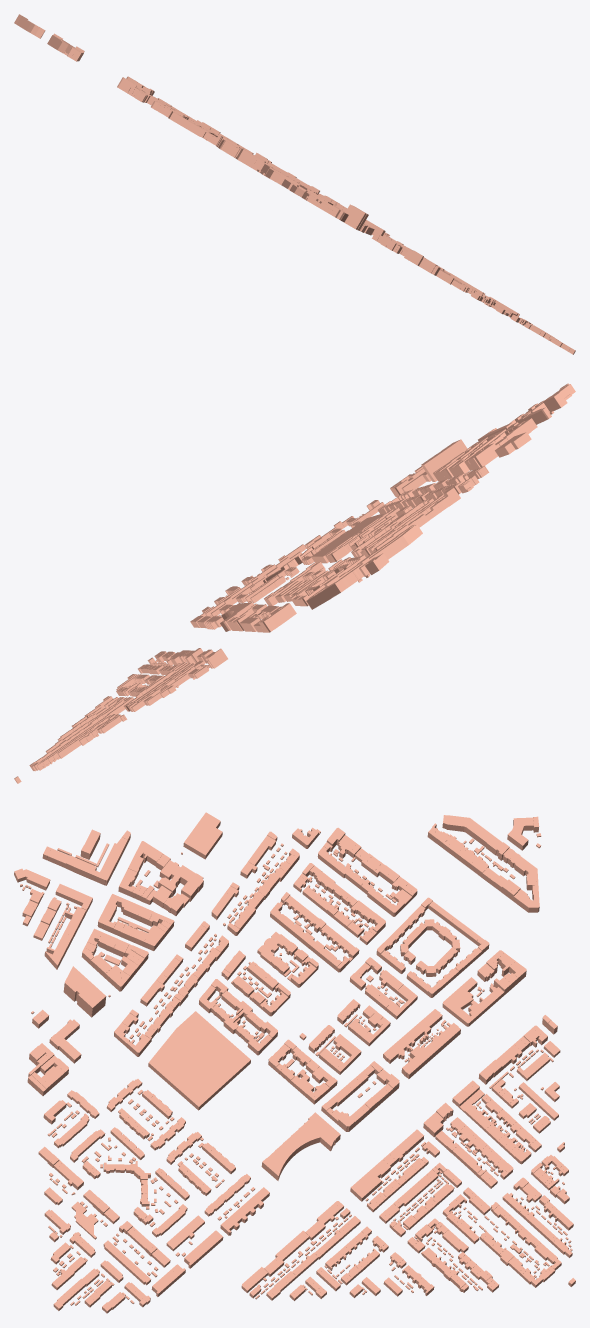
3 views of the same model, one above another, from view 1: azimuth 30°, elevation 25°; view 2: azimuth 150°, elevation 25°; view 3: azimuth 270°, elevation 25° (orthographic). The views are drawn at different scales.
Size of the model in its own units: 527 by 401 by 646.
